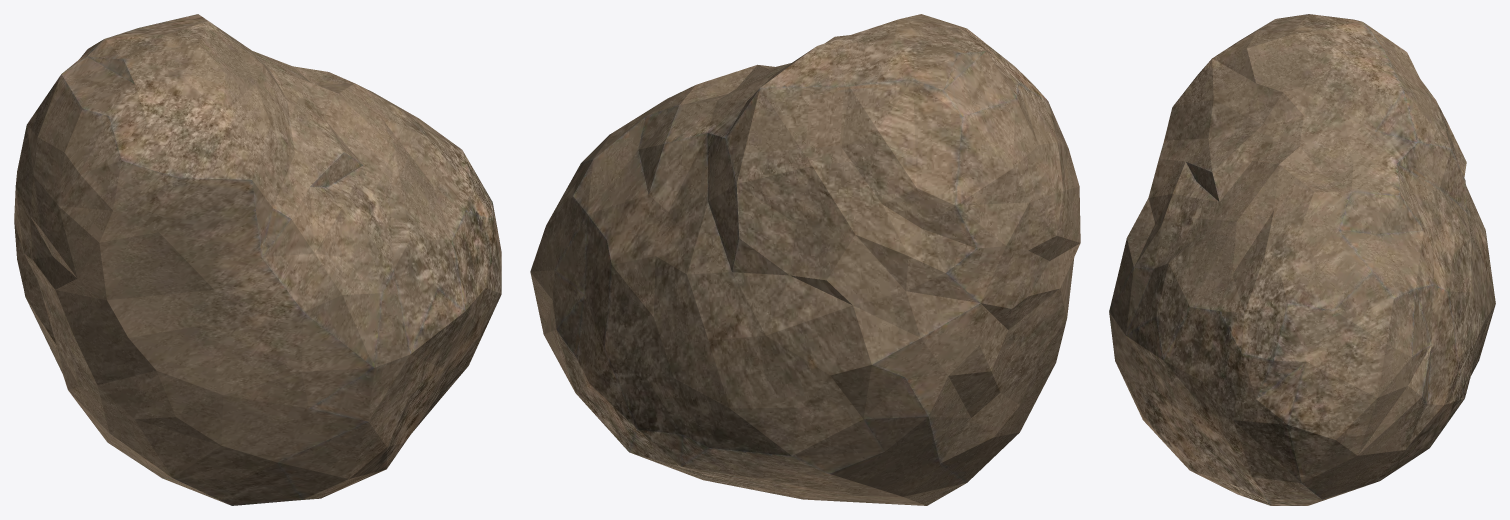
The model's file is Rocks.glb.
3 views of the same model, side by side, from view 1: azimuth 30°, elevation 25°; view 2: azimuth 150°, elevation 25°; view 3: azimuth 270°, elevation 25° (orthographic). The views are drawn at different scales.
Parts seen in each view (by area): view 1: rock lp; view 2: rock lp; view 3: rock lp.
Part boxes in pixels (left/top/right/bottom): rock lp: left=14, top=14, right=501, bottom=505; rock lp: left=530, top=14, right=1080, bottom=505; rock lp: left=1109, top=14, right=1495, bottom=505.
Bounding box in the file's own units: 1.02 × 0.9606 × 0.8411.
Materials: 1 (1 with a texture image).
